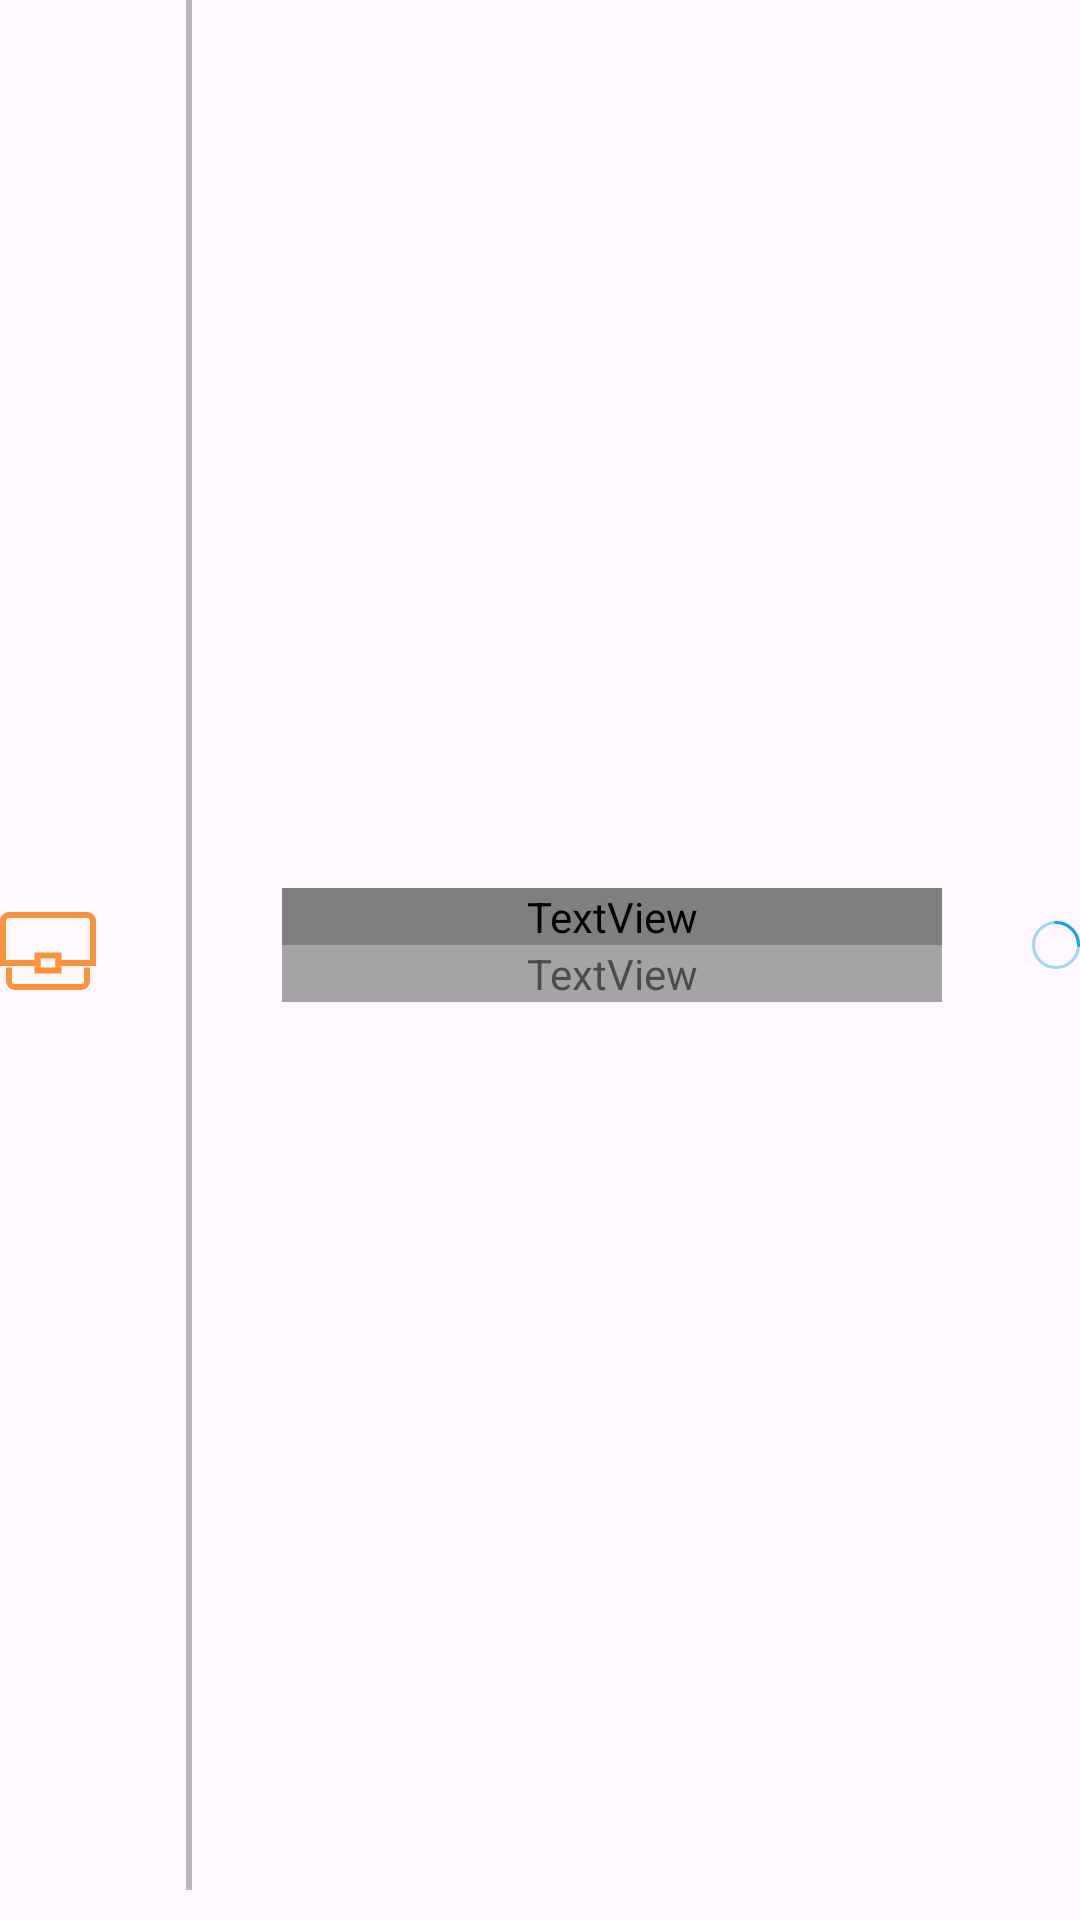

Locate icon controls on the screen. Image size 1080x1920, boxes as {"x1": x1, "y1": y1, "x2": x2, "y2": y2}.
Category icon: {"x1": 0, "y1": 912, "x2": 96, "y2": 990}
Status icon: {"x1": 1032, "y1": 921, "x2": 1080, "y2": 969}
